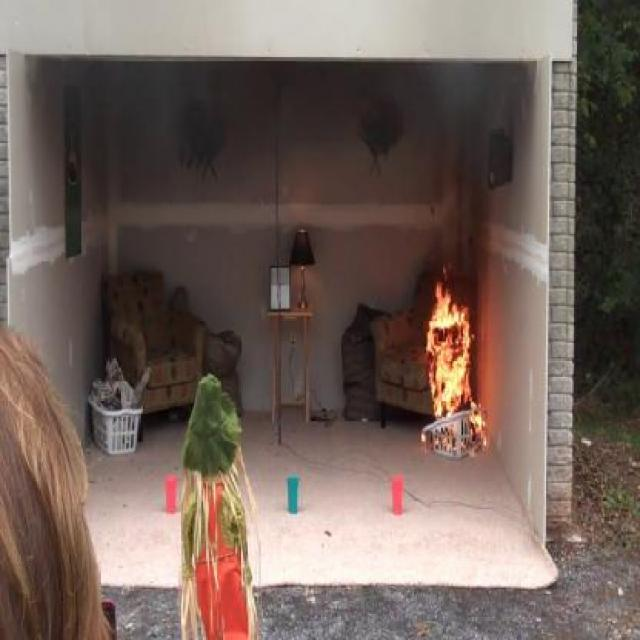fire: (399, 276, 481, 447)
smoke: (394, 42, 520, 162)
